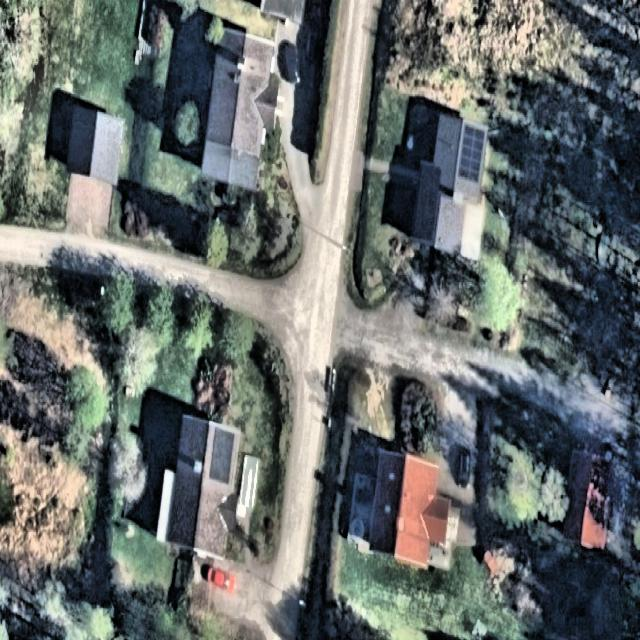roof_pv: (455, 116, 487, 188), (206, 424, 238, 490)
